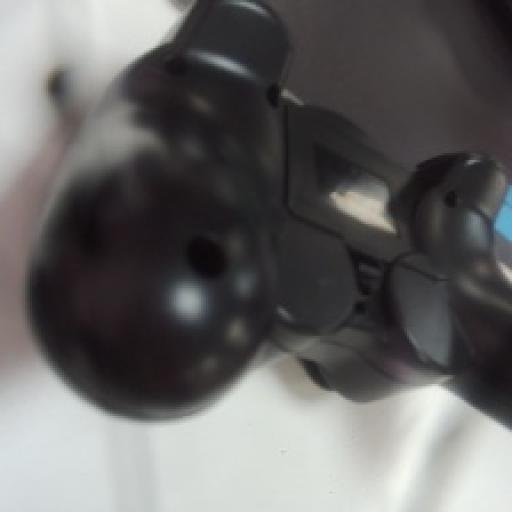game pad: (27, 0, 510, 423)
